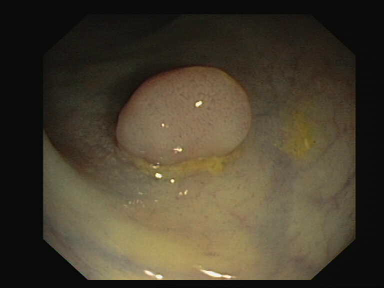polyp: (105, 59, 262, 170)
